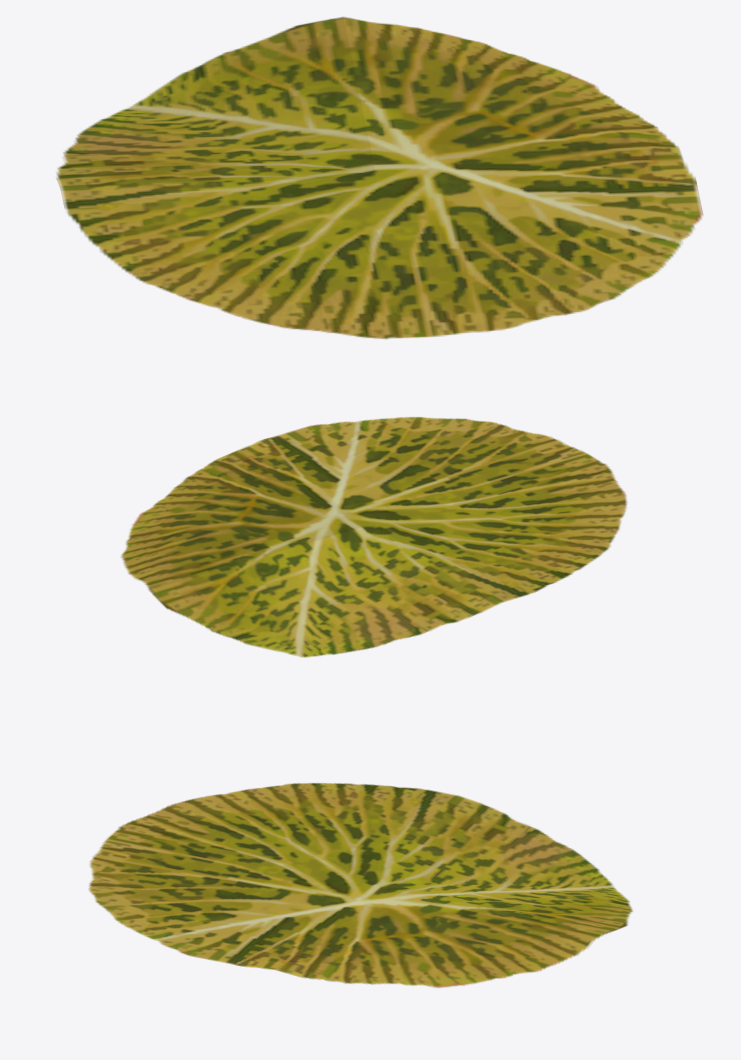
Rendered from WPlant_5_2_Lily_2.gltf.
3 renders of one model, top to bottom at view 1: azimuth 30°, elevation 25°; view 2: azimuth 150°, elevation 25°; view 3: azimuth 270°, elevation 25°, orthographic. The views are drawn at different scales.
Parts seen in each view (by area): view 1: WPlant_5_2_Lily_2; view 2: WPlant_5_2_Lily_2; view 3: WPlant_5_2_Lily_2.
Boxes of the visible parts, x1=… form: WPlant_5_2_Lily_2: x1=56, y1=17, x2=703, y2=339; WPlant_5_2_Lily_2: x1=121, y1=417, x2=626, y2=657; WPlant_5_2_Lily_2: x1=88, y1=783, x2=632, y2=987.
Size of the model in its own units: 0.7287 by 0.0526 by 0.8038.
1 material, 1 textured.
